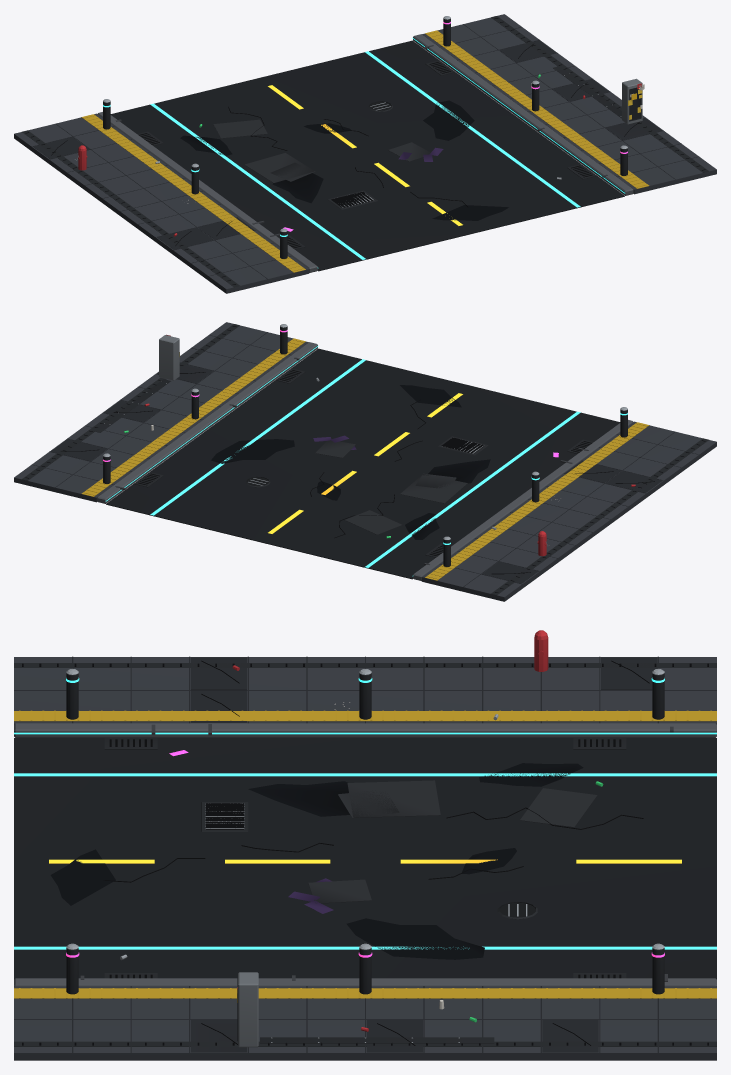
The model's file is cp_street.glb.
The picture shows the model from 3 angles, top to bottom: view 1: azimuth 30°, elevation 25°; view 2: azimuth 150°, elevation 25°; view 3: azimuth 270°, elevation 25°; orthographic projection. The views are drawn at different scales.
Visible parts, largest first — view 1: cp_street, part_jbox; view 2: cp_street, part_jbox; view 3: cp_street, part_jbox.
Part boxes in pixels (box(x1,y1,x2,y2)): cp_street: box(14, 14, 716, 293); part_jbox: box(622, 78, 644, 124); cp_street: box(14, 322, 716, 601); part_jbox: box(159, 334, 179, 380); cp_street: box(14, 656, 716, 1060); part_jbox: box(237, 972, 258, 1047).
Bounding box in the file's own units: 16 × 1.35 × 12.
